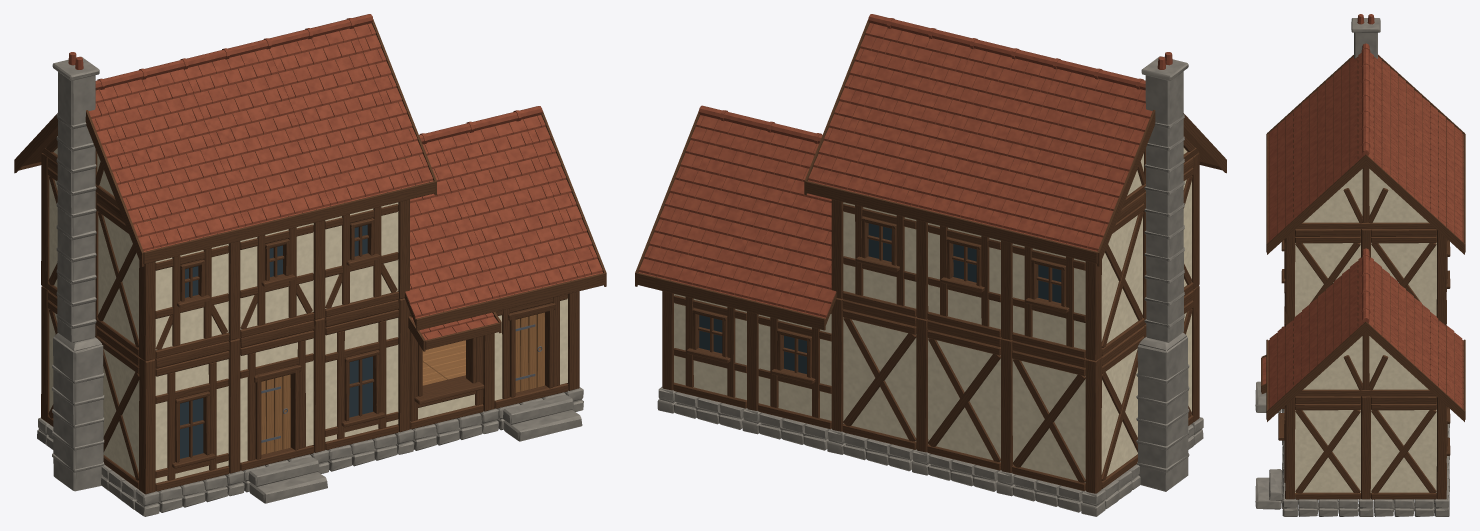
The model's file is house_workshop.glb.
3 views of the same model, side by side, from view 1: azimuth 30°, elevation 25°; view 2: azimuth 150°, elevation 25°; view 3: azimuth 270°, elevation 25° (orthographic). The views are drawn at different scales.
Visible parts, largest first — view 1: house_workshop_static; view 2: house_workshop_static; view 3: house_workshop_static.
Boxes of the visible parts, bbox=[...] form: house_workshop_static: bbox=[14, 14, 606, 516]; house_workshop_static: bbox=[635, 14, 1226, 516]; house_workshop_static: bbox=[1255, 14, 1465, 516].
Bounding box in the file's own units: 11.36 × 9.62 × 5.54.
Materials: 7 (7 with a texture image).
